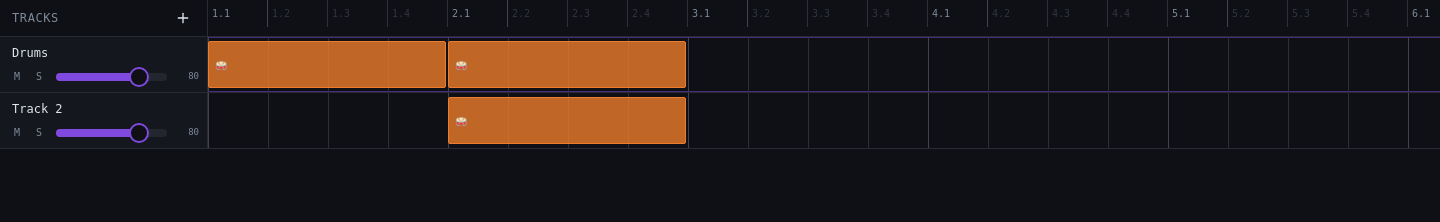
Test: Timeline › adds a track when + is clicked
The width and height of the screenshot is (1440, 222).
Note: The + button is the first button in the timeline header
Step 1. Click the 1st button → (183, 18), box [171,6,195,30]
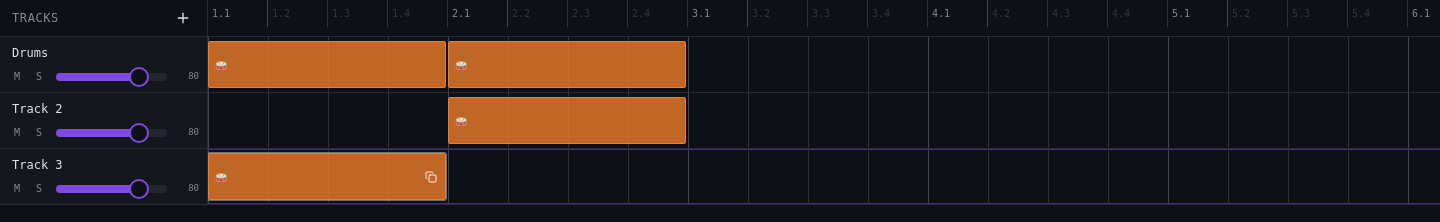
Check: the 3rd field showing "Track 3" is shown, box [8,157,175,173]
